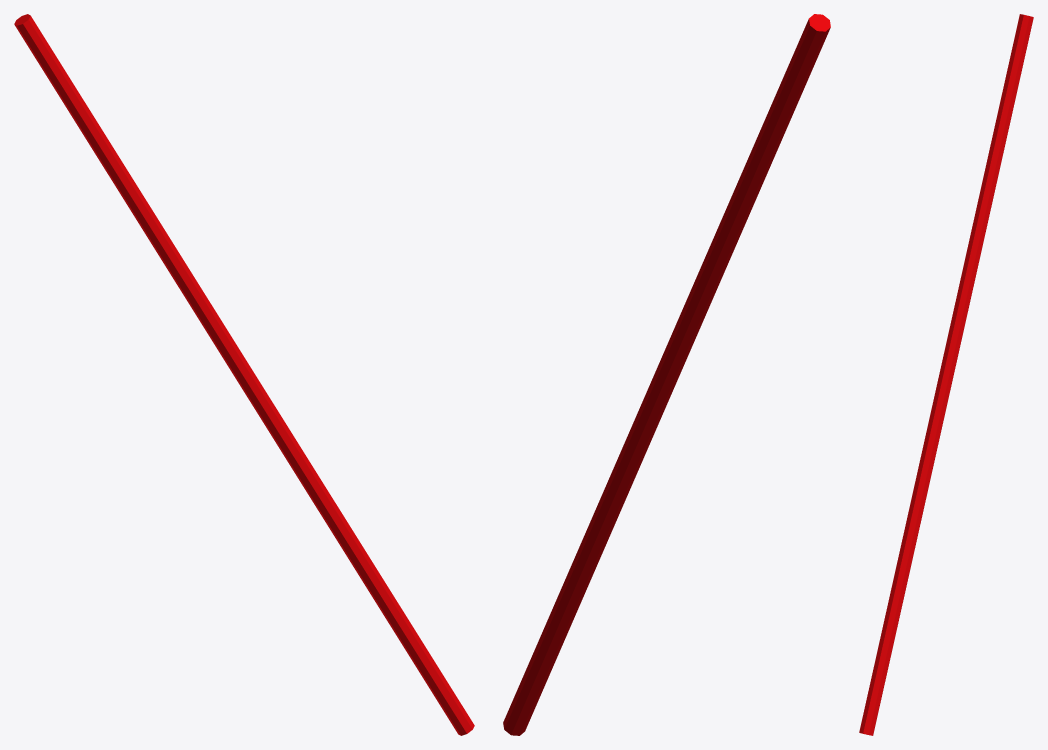
The model's file is normal1.gltf.
3 renders of one model, left to right at view 1: azimuth 30°, elevation 25°; view 2: azimuth 150°, elevation 25°; view 3: azimuth 270°, elevation 25°, orthographic. The views are drawn at different scales.
Visible parts, largest first — view 1: normal1; view 2: normal1; view 3: normal1.
Boxes of the visible parts, left/top/right/bottom form: normal1: left=14, top=14, right=474, bottom=735; normal1: left=503, top=14, right=830, bottom=735; normal1: left=859, top=14, right=1033, bottom=735.
Size of the model in its own units: 76.49 by 149 by 39.9.
